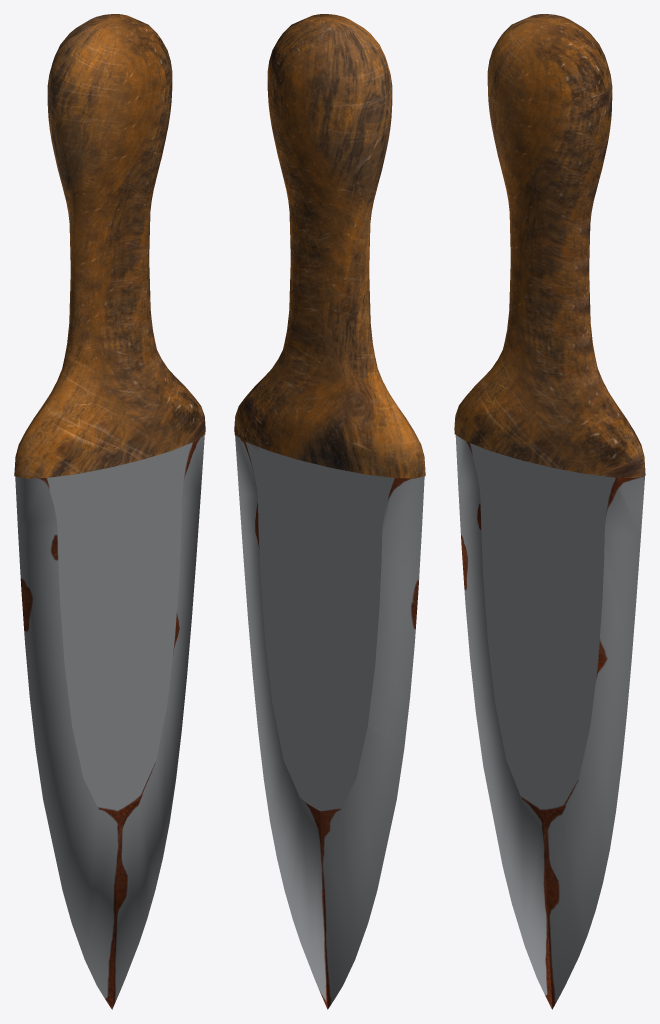
The picture shows the model from 3 angles, left to right: view 1: azimuth 30°, elevation 25°; view 2: azimuth 150°, elevation 25°; view 3: azimuth 330°, elevation 25°; orthographic projection.
Visible parts, largest first — view 1: OuterBlade; view 2: OuterBlade; view 3: OuterBlade.
Boxes of the visible parts, bbox=[...] form: OuterBlade: bbox=[14, 14, 205, 1009]; OuterBlade: bbox=[234, 14, 425, 1009]; OuterBlade: bbox=[454, 14, 645, 1009].
Bounding box in the file's own units: 0.00807 × 0.0399 × 0.00342.
1 material, 1 textured.
